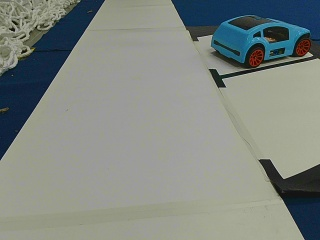car: (210, 17, 310, 66)
